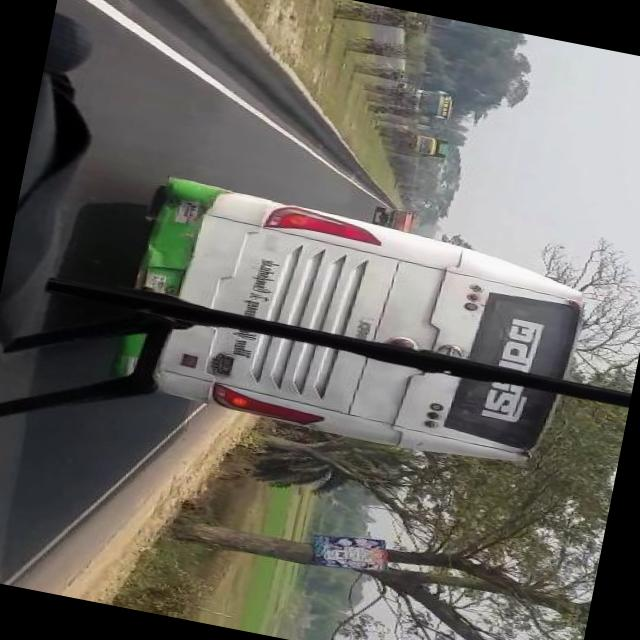bus: (118, 176, 574, 474), (399, 85, 456, 127)
truck: (410, 134, 454, 167), (372, 205, 417, 235)
